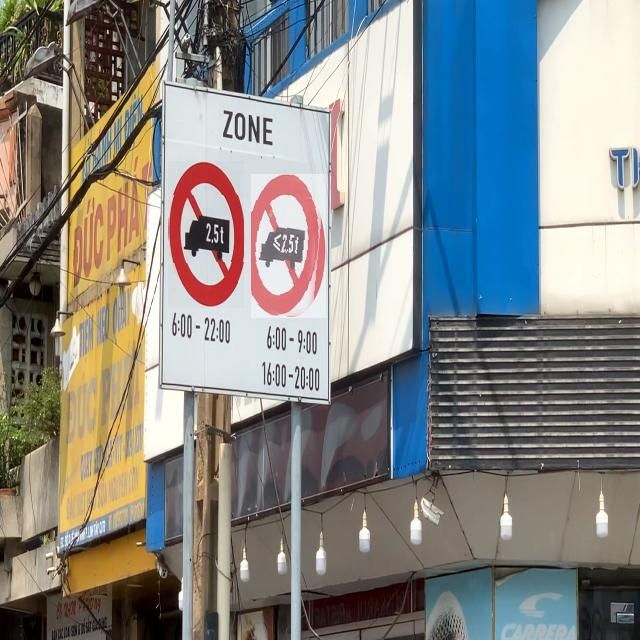bien_cam: (168, 161, 244, 308), (251, 174, 326, 318)
